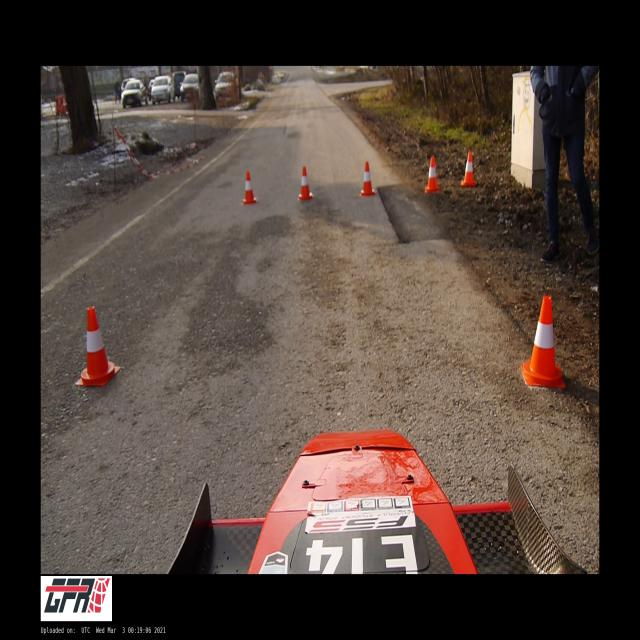orange_cone: (522, 296, 566, 388), (76, 307, 119, 384), (360, 162, 376, 196), (425, 157, 440, 193), (461, 152, 476, 186), (242, 172, 257, 204), (299, 166, 313, 199)
